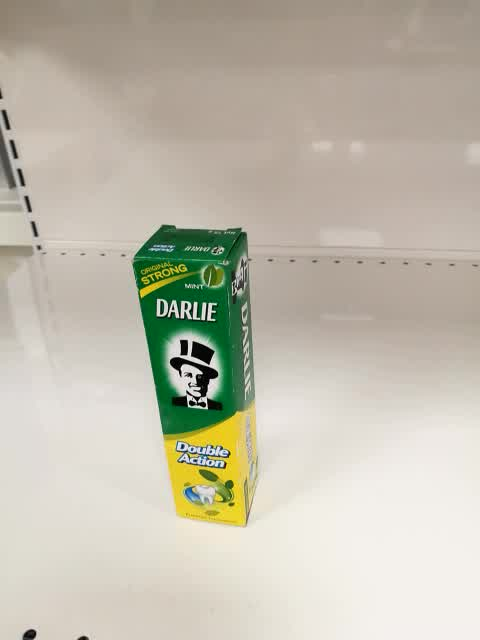toothpaste: (132, 224, 258, 529)
